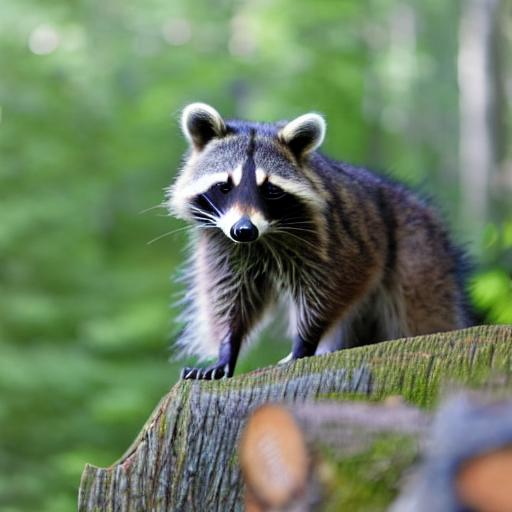raccoon: (159, 93, 494, 333)
